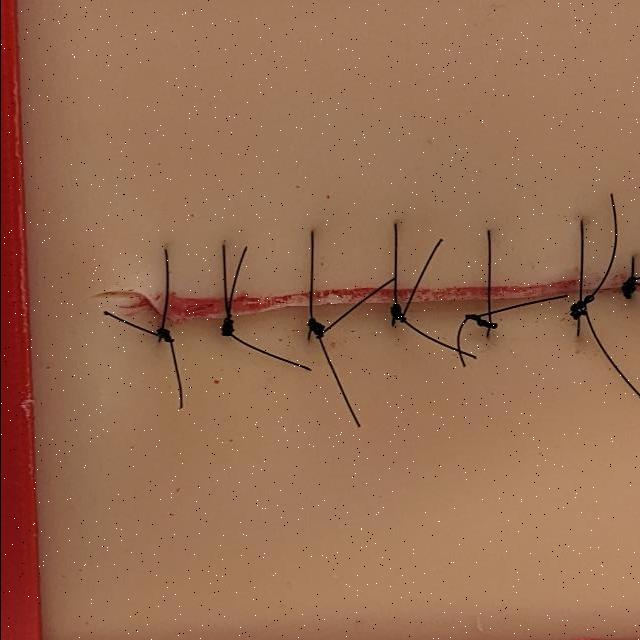knot_good: (379, 306, 413, 334), (215, 315, 240, 344), (617, 281, 639, 306)
knot_loose: (562, 304, 596, 332)
knot_perfect: (454, 308, 508, 341), (138, 328, 176, 354), (297, 318, 331, 344)
suture_good: (617, 219, 639, 278)
suture_loose: (560, 160, 598, 299), (383, 179, 412, 297), (478, 187, 504, 307), (300, 188, 324, 312), (214, 209, 242, 311), (155, 220, 176, 322)
